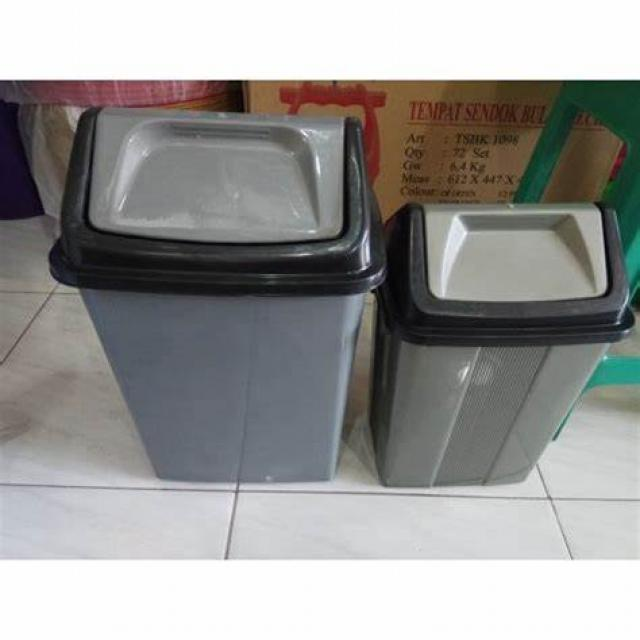garbage container: (60, 84, 381, 494), (388, 184, 640, 496)
